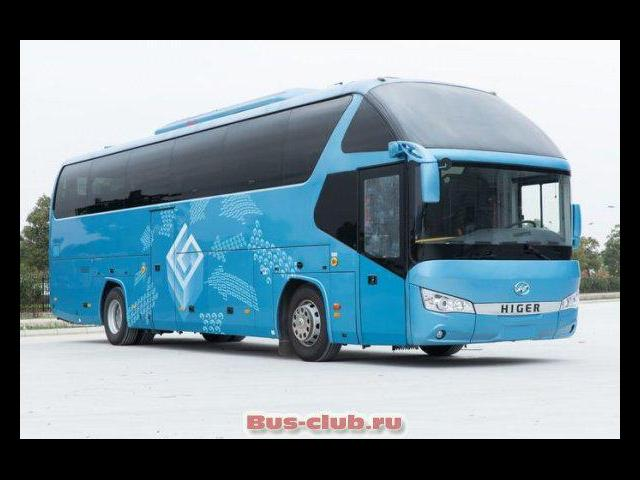bus: (42, 72, 585, 368)
